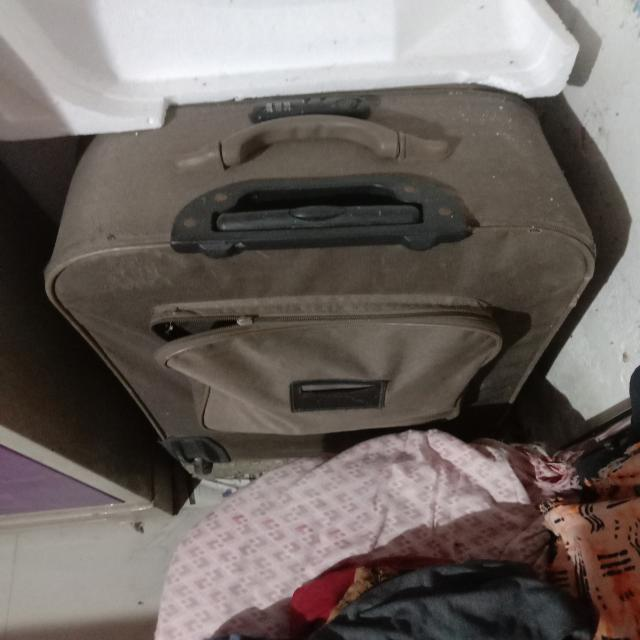suitcaserotation: (34, 77, 603, 483)
